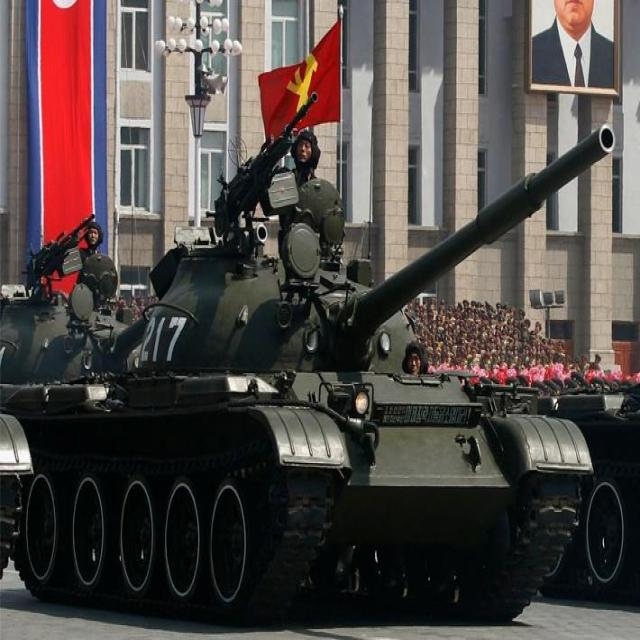north tank: (16, 101, 608, 619)
